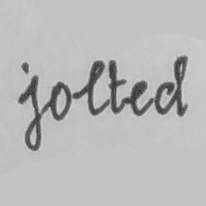d: (153, 53, 191, 118)
e: (130, 78, 151, 118)
j: (15, 61, 44, 153)
l: (83, 56, 105, 118)
o: (48, 79, 75, 123)
t: (107, 56, 129, 116)
